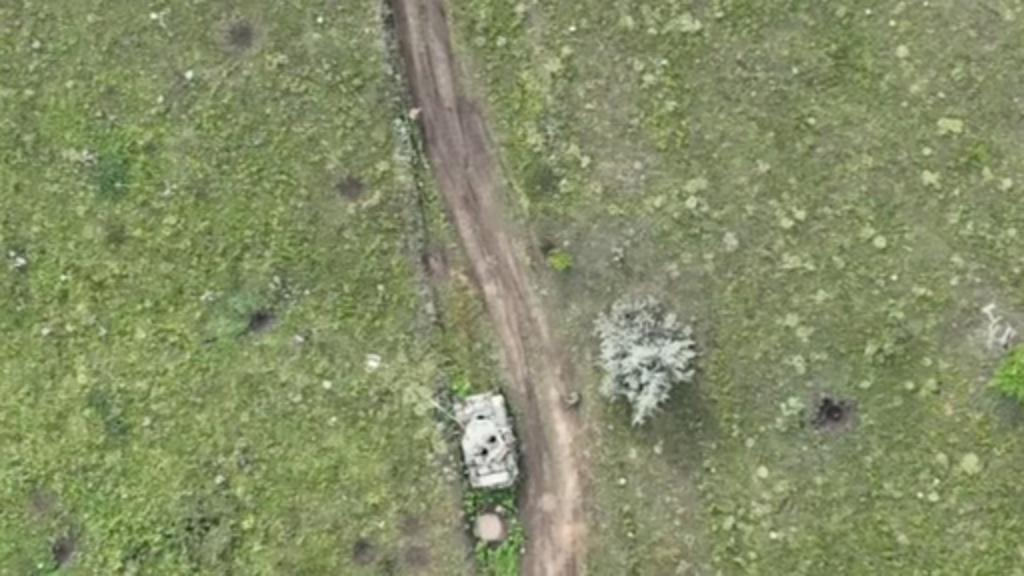TANK: (414, 380, 520, 494)
